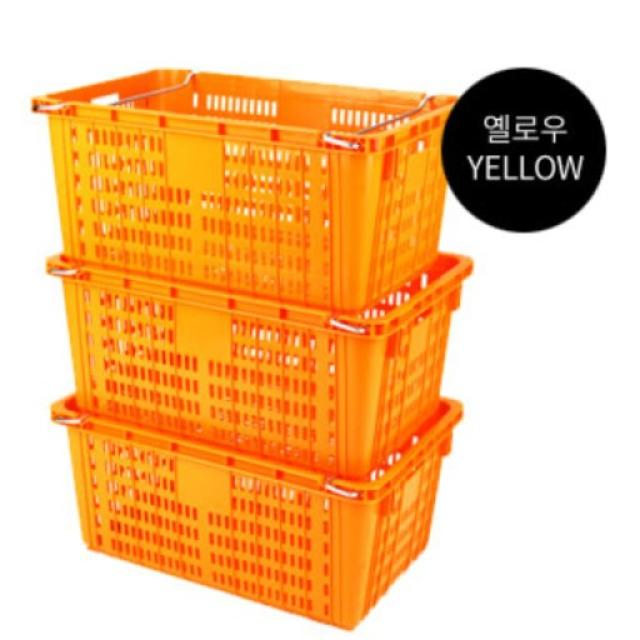basket: (17, 58, 456, 319), (50, 397, 464, 630), (48, 255, 473, 479)
